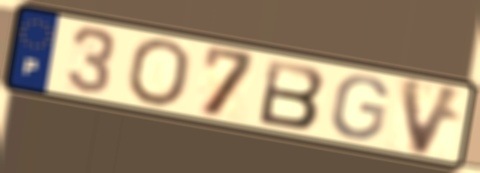3: (64, 25, 120, 98)
7: (200, 43, 260, 121)
B: (256, 56, 328, 131)
G: (327, 73, 392, 142)
O: (123, 37, 194, 109)
V: (397, 74, 468, 160)
